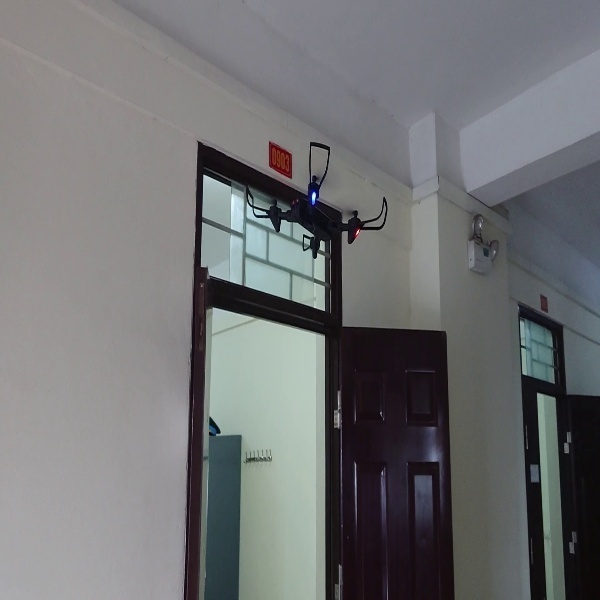drone: (244, 141, 391, 261)
